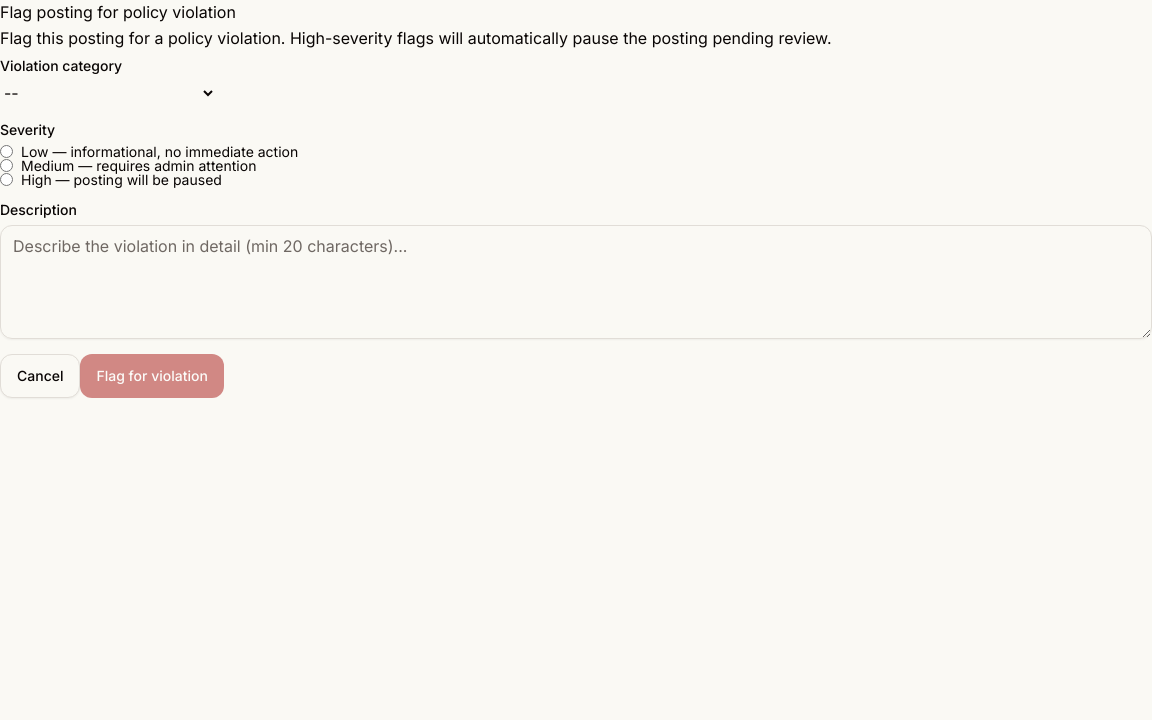
FlagPostingModal › shows high severity warning in confirm step
Select "Other" in the dropdown with test id "flag-category-select" at point(108, 93), box x1=0 y1=82 x2=216 y2=104
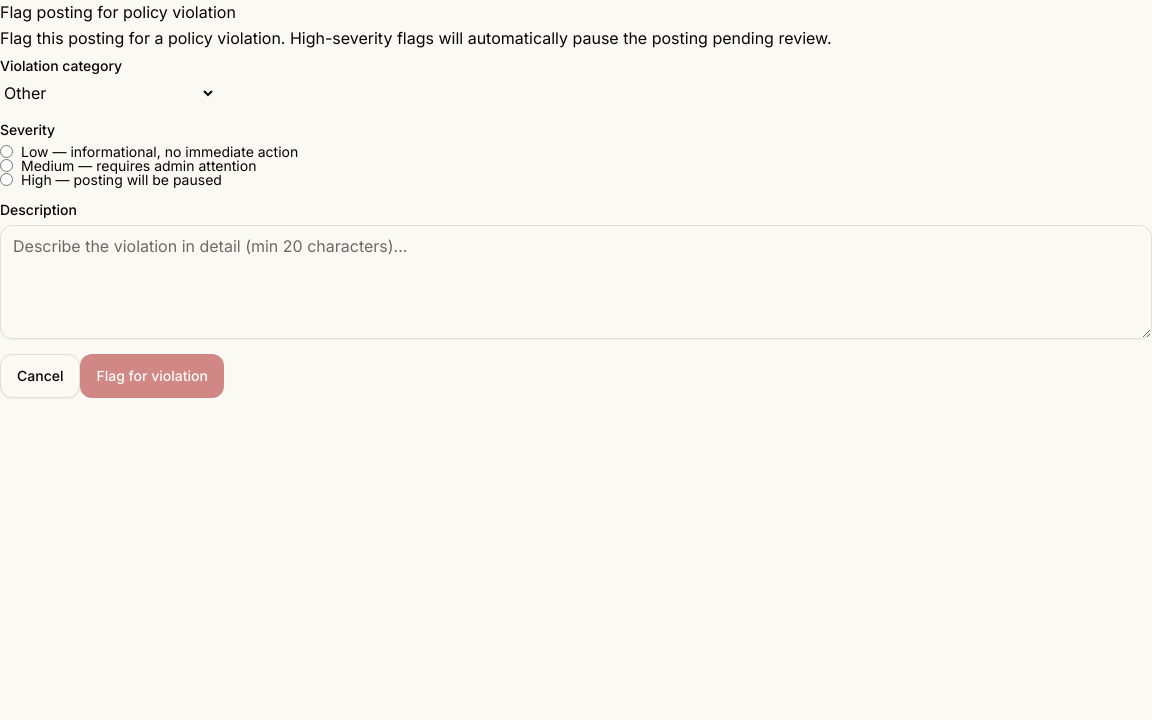
Click the radio button labelled "High — posting will be paused" at point(6, 180), box x1=0 y1=173 x2=13 y2=186
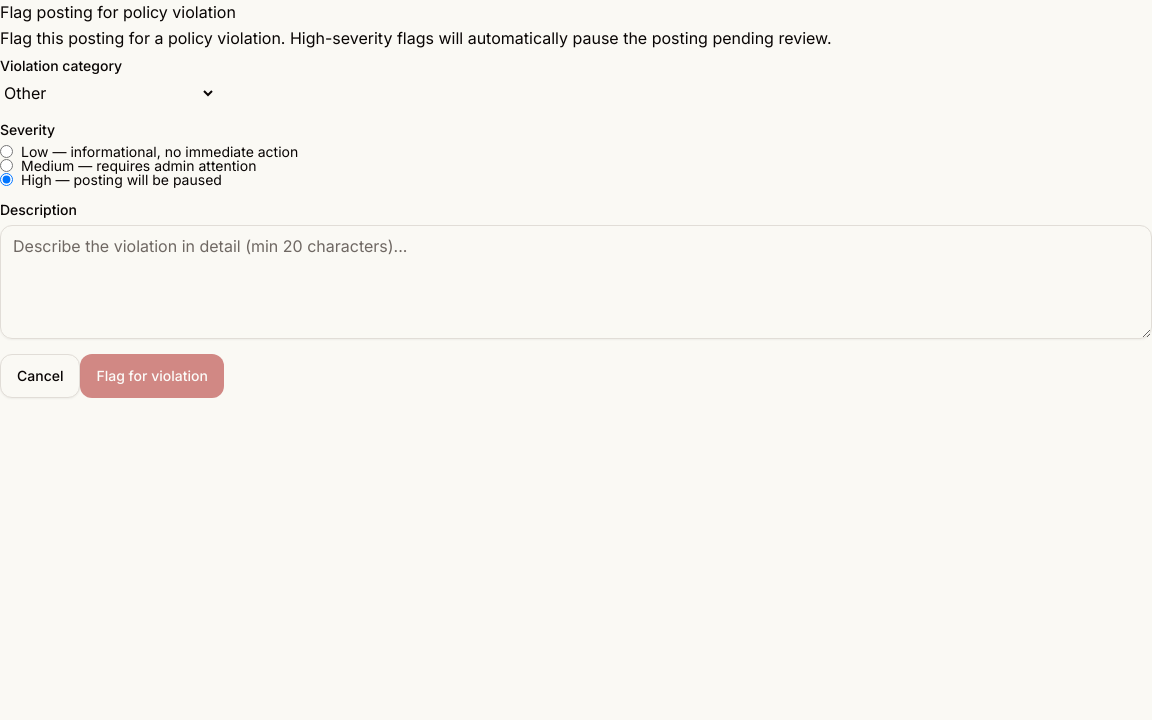
Type "This posting contains misleading information about the role." into the text box with test id "flag-description-textarea" at point(576, 282), box x1=0 y1=225 x2=1151 y2=339
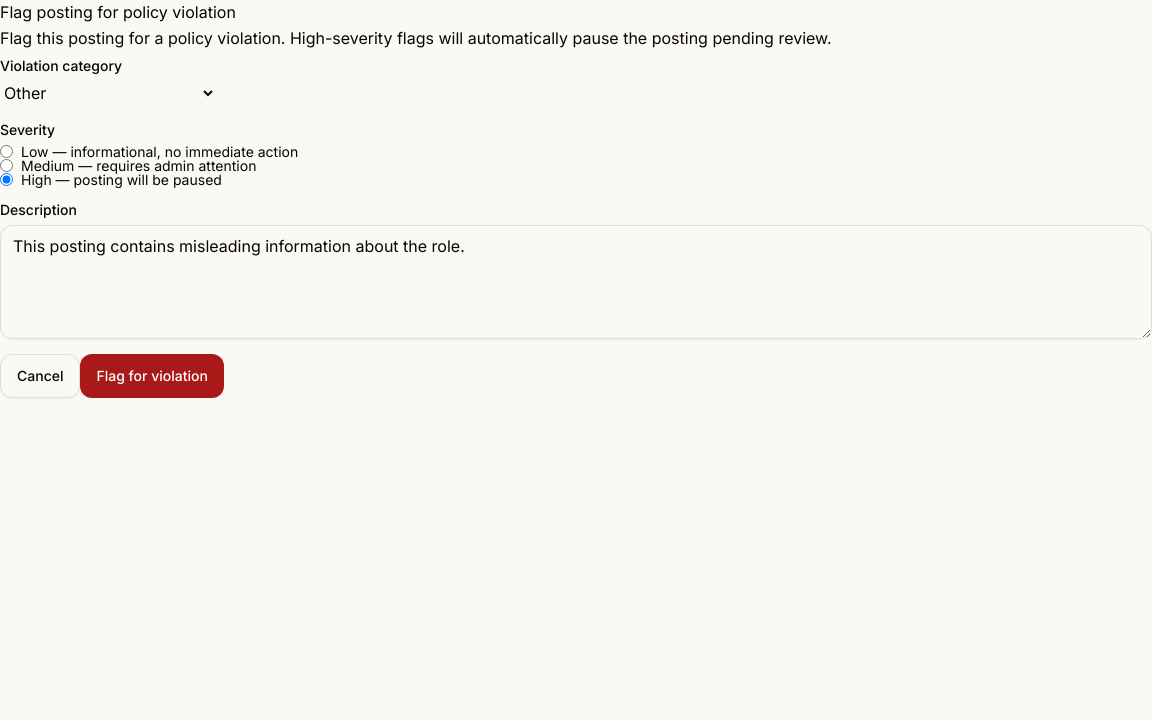
Click the button with test id "flag-proceed-button" at point(152, 376), box x1=80 y1=354 x2=224 y2=398
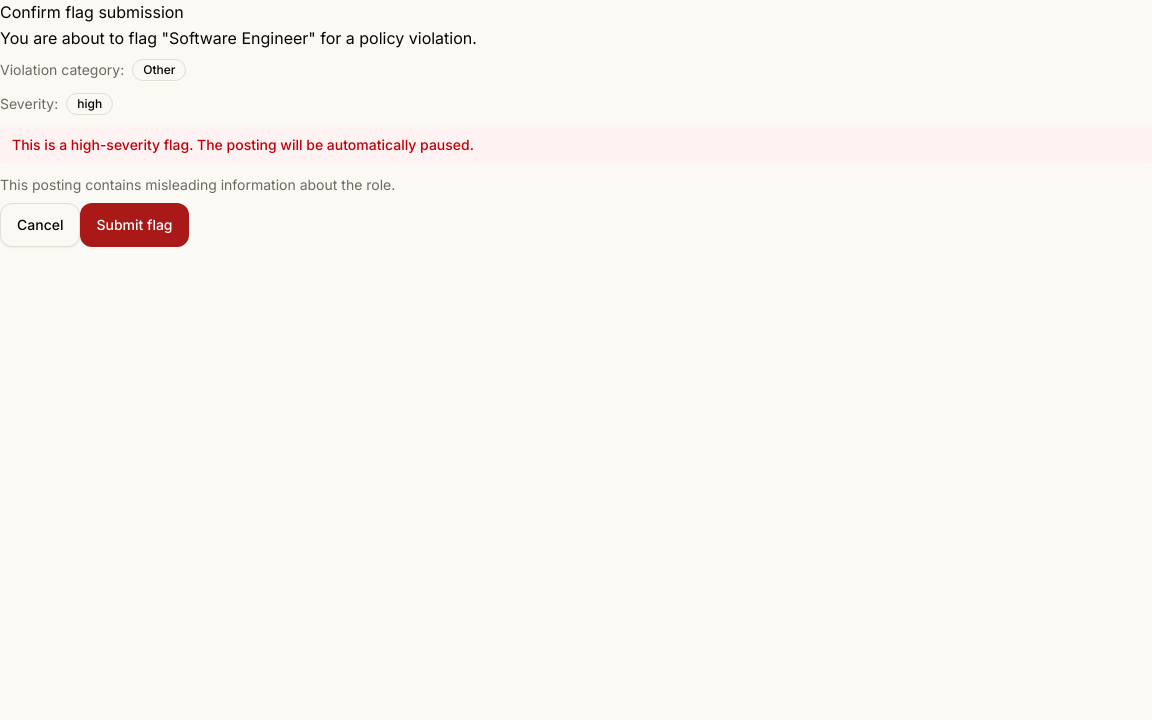
expect the text with test id "high-severity-warning" is shown: met, box x1=0 y1=127 x2=1151 y2=163
